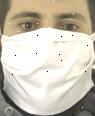with_mask: (1, 1, 95, 116)
